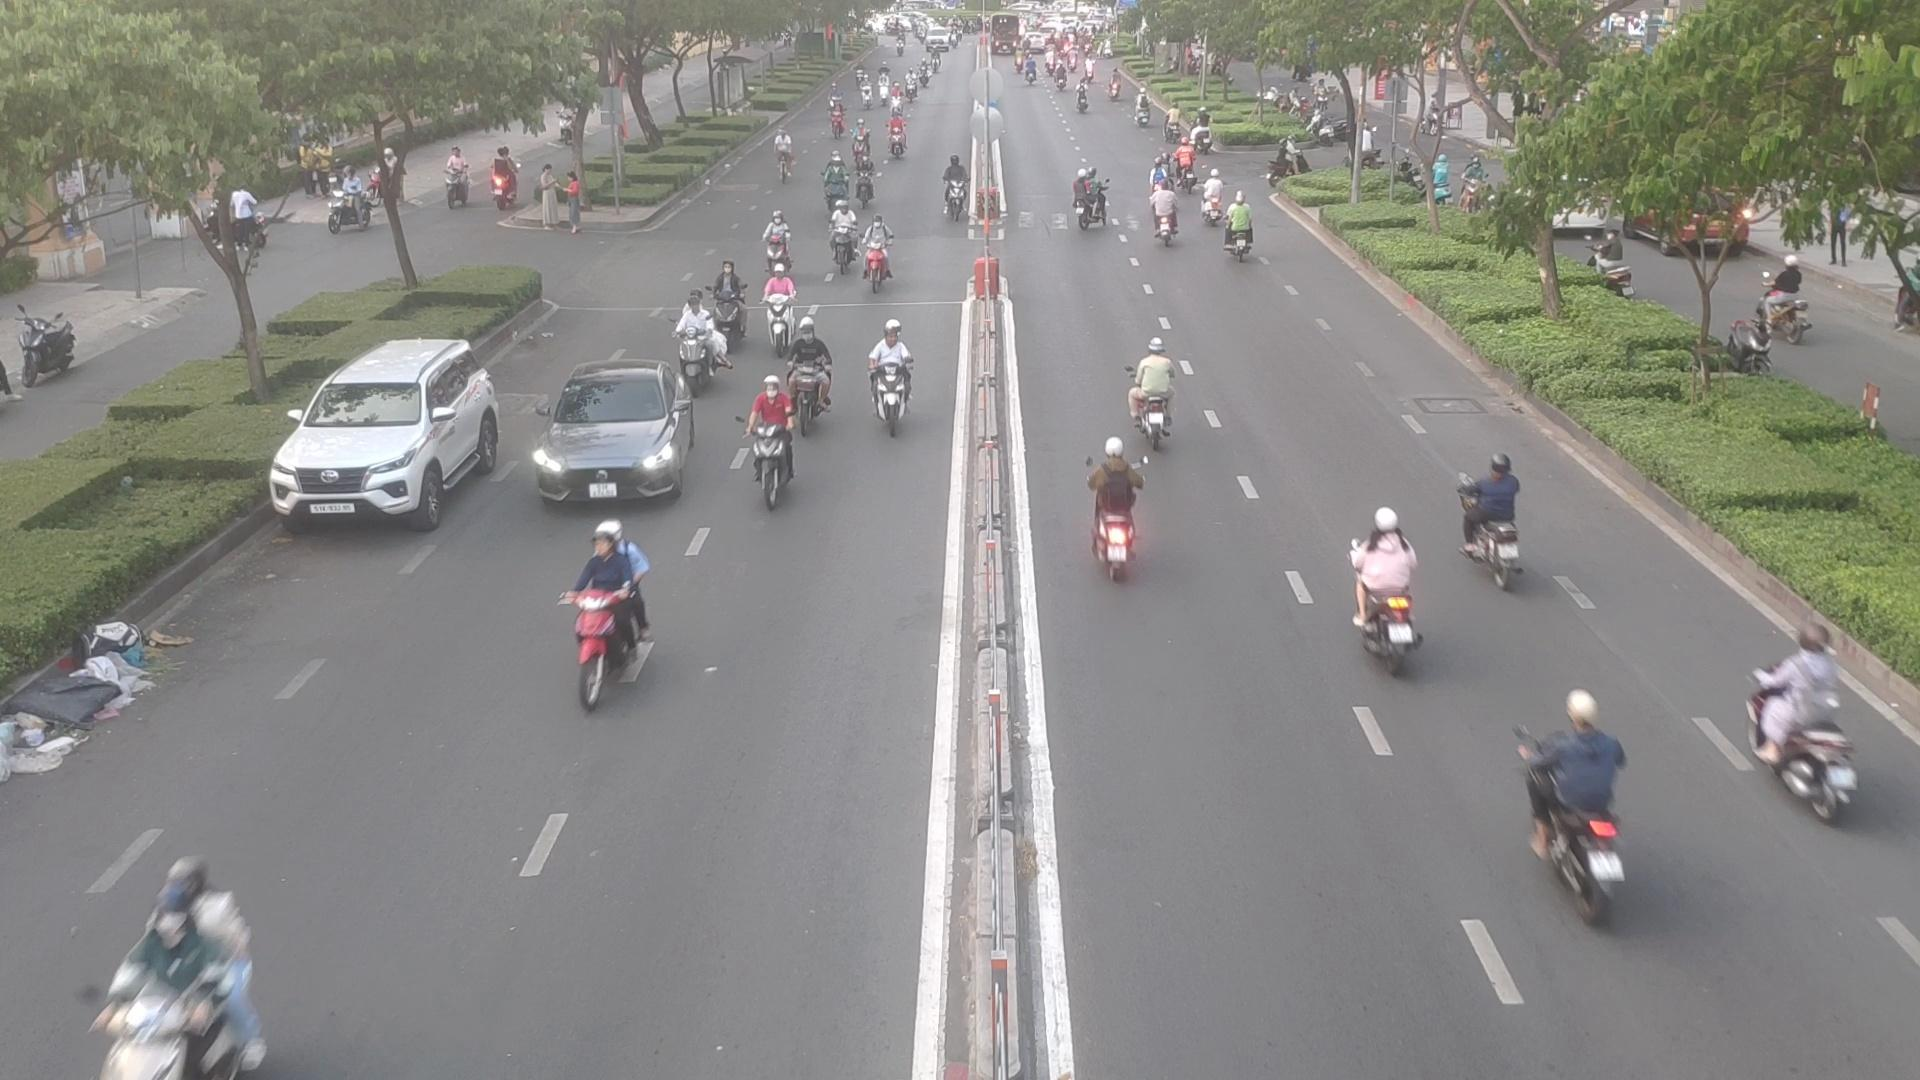car: (272, 339, 516, 530), (535, 369, 703, 508)
motorbike: (88, 860, 268, 1076), (1509, 700, 1629, 916), (1741, 629, 1863, 819), (554, 530, 663, 702), (1337, 516, 1420, 669), (1091, 436, 1150, 585), (1458, 459, 1524, 580), (861, 328, 916, 431), (1127, 348, 1182, 448), (783, 309, 831, 415), (757, 371, 789, 495), (679, 284, 713, 388), (1062, 167, 1112, 232), (827, 212, 866, 276), (858, 227, 895, 293), (1224, 199, 1262, 261), (761, 266, 795, 331), (719, 252, 738, 357), (940, 149, 967, 218), (1155, 179, 1180, 244), (822, 149, 843, 208), (764, 220, 785, 276), (852, 154, 876, 200), (1200, 169, 1222, 218), (1172, 135, 1193, 185), (887, 111, 906, 160), (853, 119, 868, 164)
